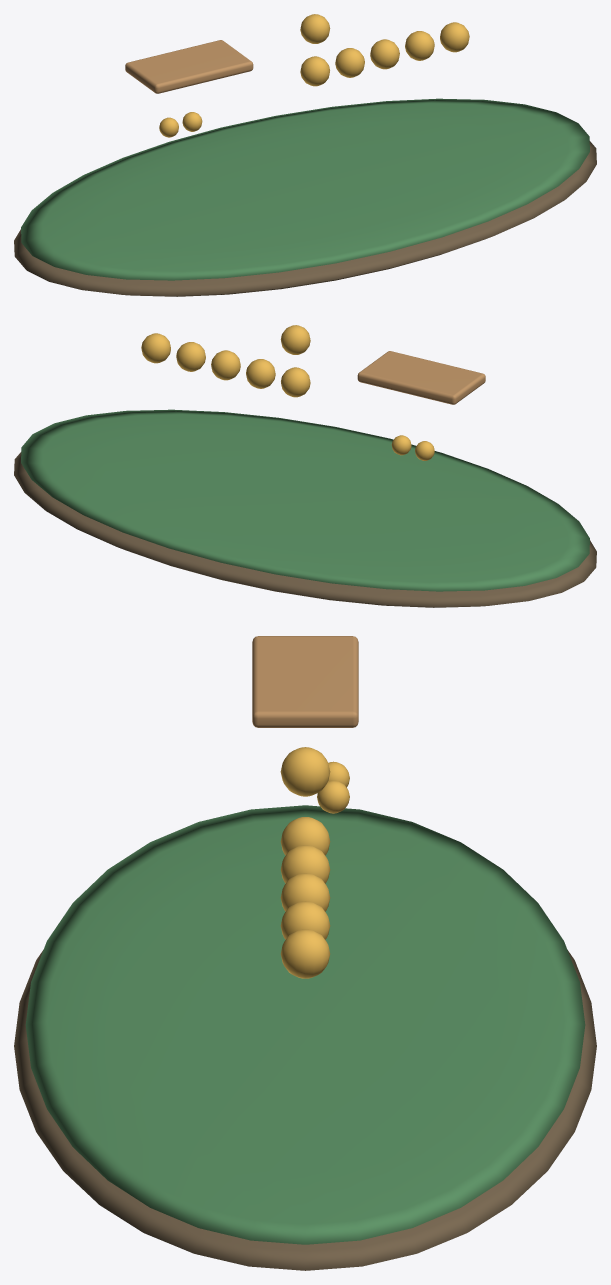
Rendered from six.glb.
3 renders of one model, top to bottom at view 1: azimuth 30°, elevation 25°; view 2: azimuth 150°, elevation 25°; view 3: azimuth 270°, elevation 25°, orthographic. The views are drawn at different scales.
Visible parts, largest first — view 1: six_surface_01, six_surface_00, six_surface_03, six_surface_02; view 2: six_surface_01, six_surface_00, six_surface_03, six_surface_02; view 3: six_surface_01, six_surface_00, six_surface_03, six_surface_02.
Boxes of the visible parts, x1=… form: six_surface_01: x1=21, y1=98, x2=589, y2=280; six_surface_00: x1=14, y1=141, x2=596, y2=296; six_surface_03: x1=159, y1=14, x2=469, y2=137; six_surface_02: x1=125, y1=40, x2=253, y2=93; six_surface_01: x1=21, y1=409, x2=589, y2=591; six_surface_00: x1=14, y1=452, x2=596, y2=607; six_surface_03: x1=141, y1=325, x2=434, y2=460; six_surface_02: x1=357, y1=351, x2=485, y2=404; six_surface_01: x1=25, y1=805, x2=585, y2=1244; six_surface_00: x1=14, y1=950, x2=596, y2=1270; six_surface_03: x1=280, y1=747, x2=349, y2=978; six_surface_02: x1=252, y1=636, x2=358, y2=727.
Size of the model in its own units: 4.56 by 1.57 by 2.5.
